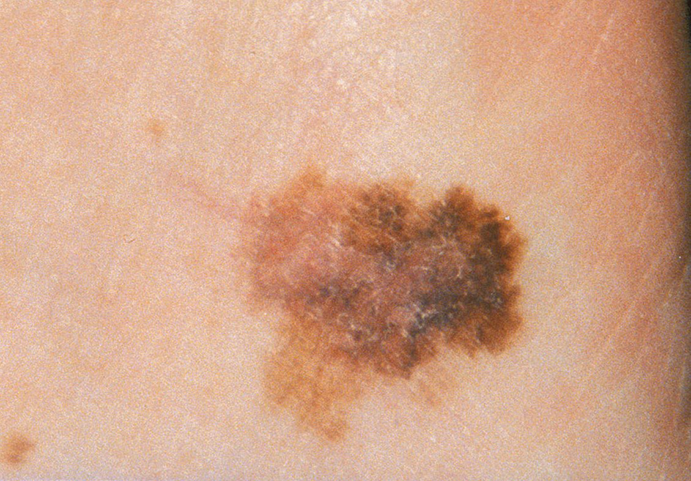Melanoma: (254, 164, 527, 438)
